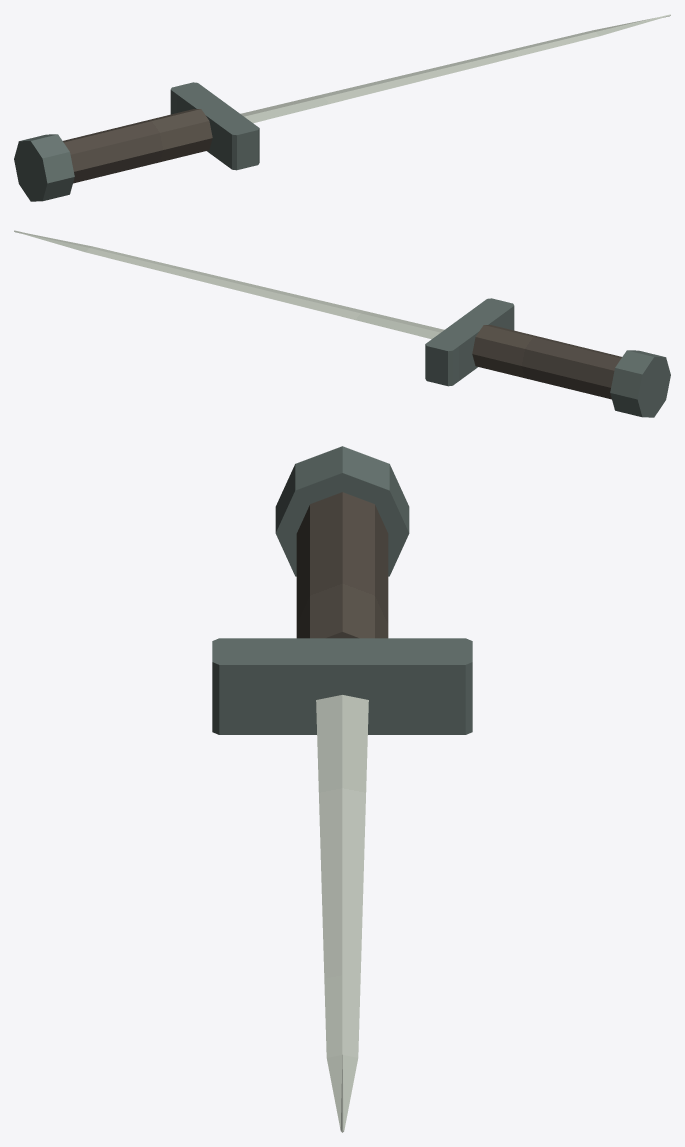
File: weapon-stiletto.glb
3 renders of one model, top to bottom at view 1: azimuth 30°, elevation 25°; view 2: azimuth 150°, elevation 25°; view 3: azimuth 270°, elevation 25°, orthographic. The views are drawn at different scales.
Visible parts, largest first — view 1: weapon-stiletto/eight-sided-handle, weapon-stiletto/faceted-distinct-blade, weapon-stiletto/transverse-crossguard, weapon-stiletto/handle-end-pommel; view 2: weapon-stiletto/eight-sided-handle, weapon-stiletto/faceted-distinct-blade, weapon-stiletto/transverse-crossguard, weapon-stiletto/handle-end-pommel; view 3: weapon-stiletto/transverse-crossguard, weapon-stiletto/faceted-distinct-blade, weapon-stiletto/eight-sided-handle, weapon-stiletto/handle-end-pommel.
Boxes of the visible parts, left/top/right/bottom form: weapon-stiletto/eight-sided-handle: left=63, top=109, right=212, bottom=183; weapon-stiletto/faceted-distinct-blade: left=240, top=14, right=670, bottom=123; weapon-stiletto/transverse-crossguard: left=170, top=82, right=259, bottom=170; weapon-stiletto/handle-end-pommel: left=14, top=134, right=74, bottom=201; weapon-stiletto/eight-sided-handle: left=472, top=325, right=621, bottom=399; weapon-stiletto/faceted-distinct-blade: left=14, top=230, right=444, bottom=339; weapon-stiletto/transverse-crossguard: left=425, top=298, right=514, bottom=386; weapon-stiletto/handle-end-pommel: left=610, top=350, right=670, bottom=417; weapon-stiletto/transverse-crossguard: left=212, top=638, right=472, bottom=734; weapon-stiletto/faceted-distinct-blade: left=316, top=695, right=368, bottom=1132; weapon-stiletto/eight-sided-handle: left=296, top=492, right=388, bottom=638; weapon-stiletto/handle-end-pommel: left=275, top=446, right=409, bottom=576.
Size of the model in its own units: 0.42 by 0.038 by 0.074.
3 materials, 3 textured.
